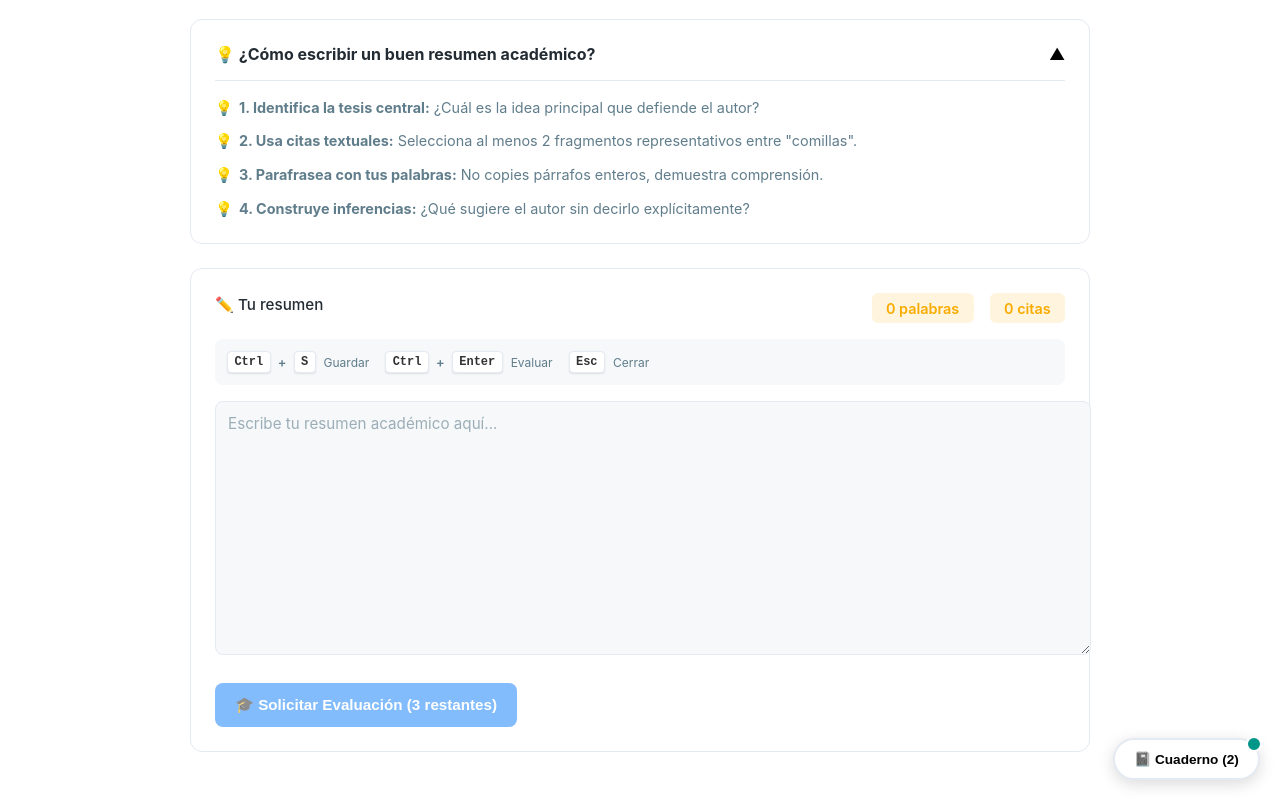
Test: ResumenAcademico Integration Tests › Validación en tiempo real › debe validar palabras mínimas (50)
(page scrolled)
# Texto muy corto
In the text box with placeholder "Escribe tu resumen académico aquí...": (653, 528) [215,401,1091,655], type "Texto muy corto"
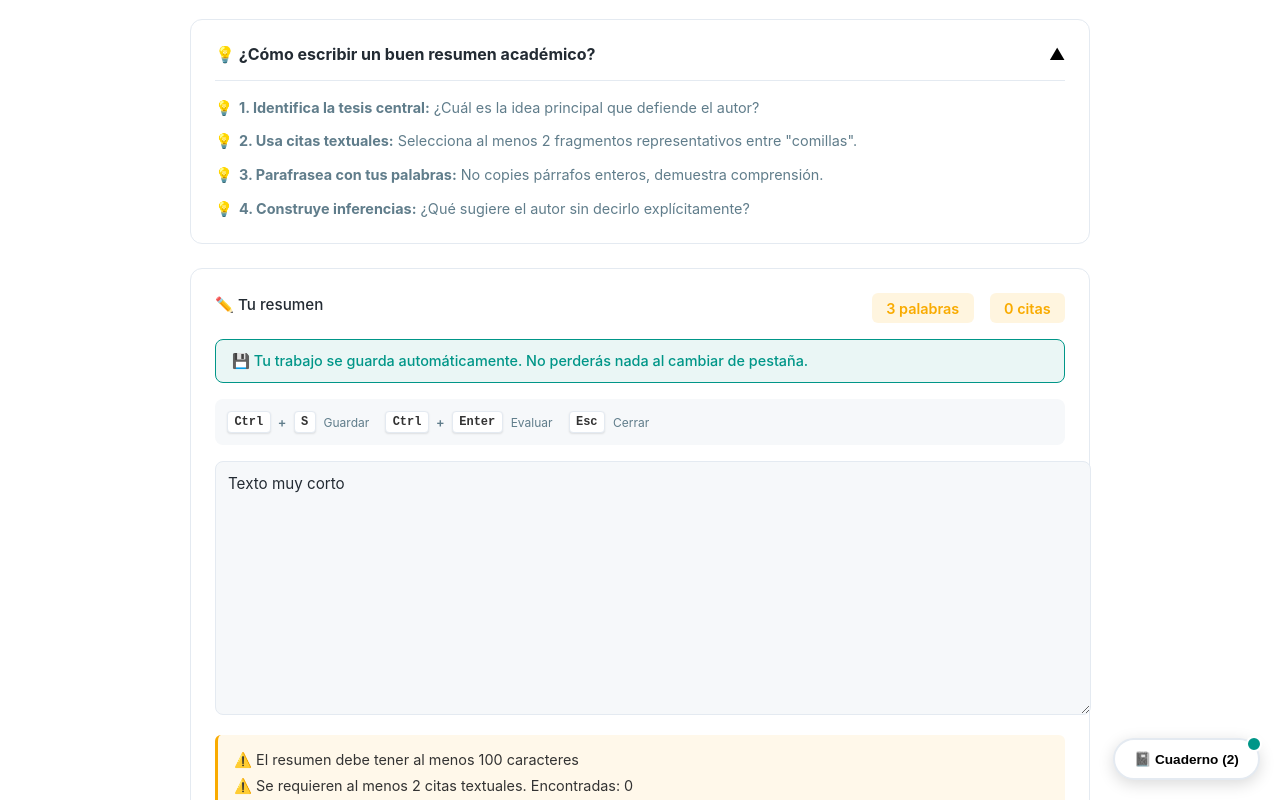
expect the text "⚠️ El resumen debe tener al menos 100 caracteres" is shown: met, box [234,751,579,768]
